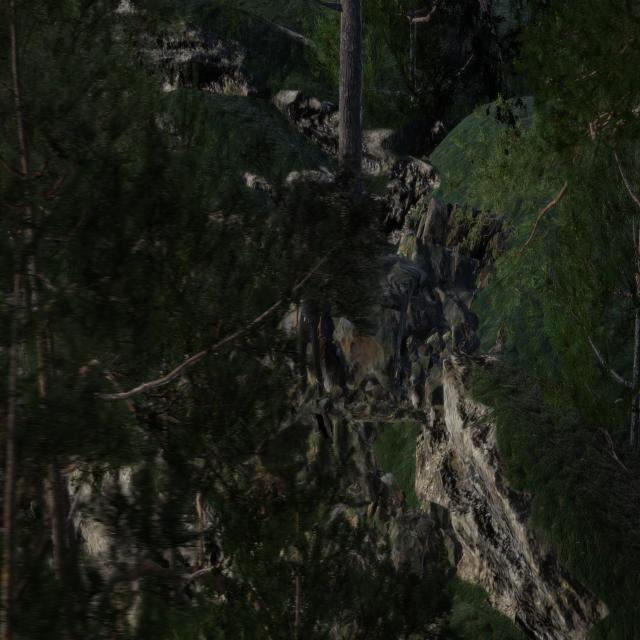Human: (293, 249, 331, 421)
